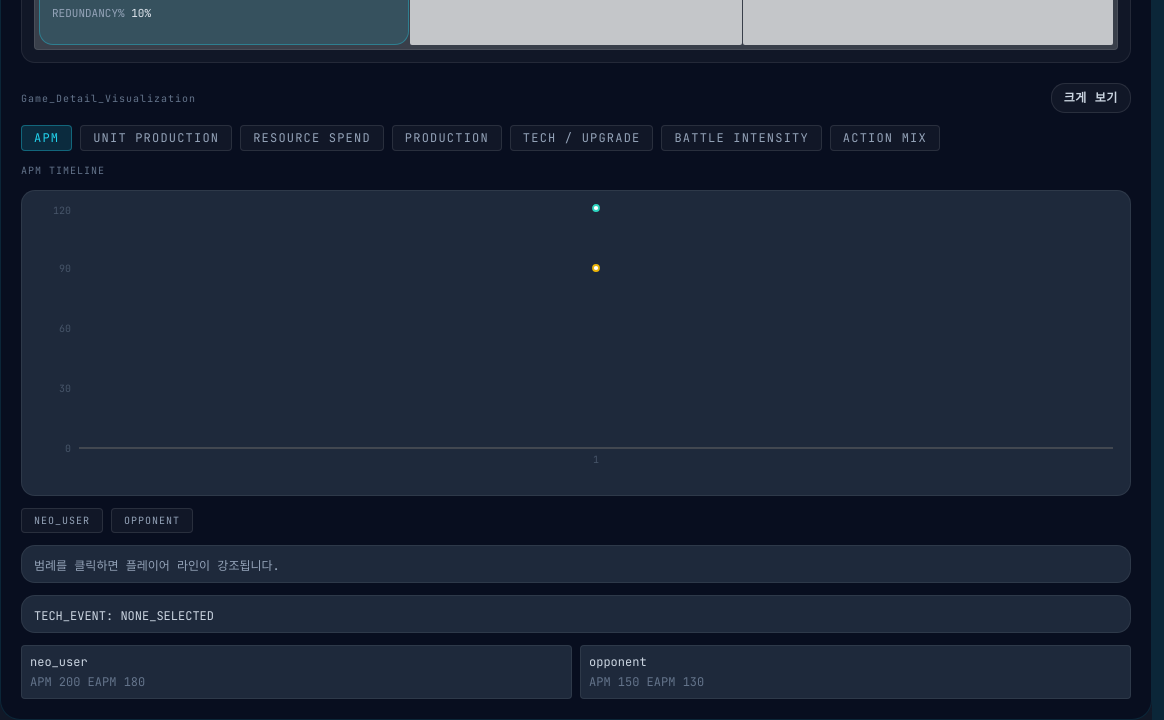
Test: vault page › toggles APM highlighted player from the legend and updates tech focus and tech marker info
(page scrolled)
Expected: the text "범례를 클릭하면 플레이어 라인이 강조됩니다." is shown, [34,558,280,574]
Expected: the text with test id "vault-tech-tree-focus" reads "TECH_EVENT: NONE_SELECTED", [34,608,214,624]
Click the button "neo_user": (62, 520) [21,508,103,533]
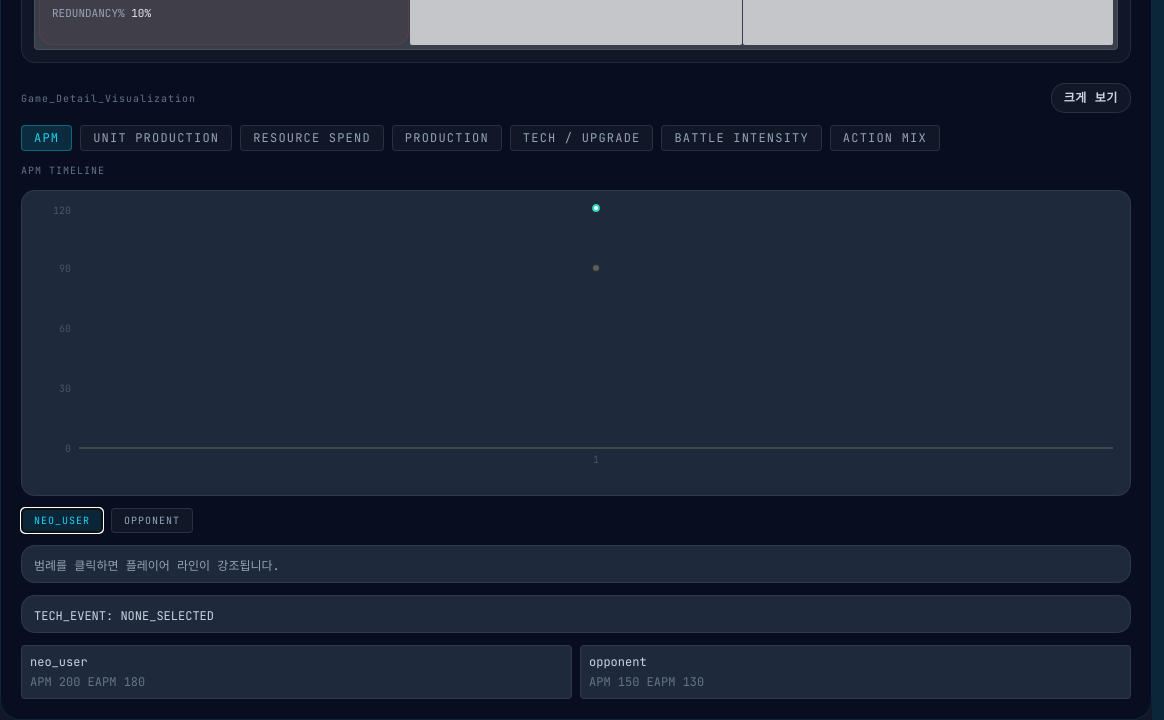
Now the button "neo_user" is pressed, box [21,508,103,533]
Click the button "Tech / Upgrade": (582, 138) [510,125,653,151]
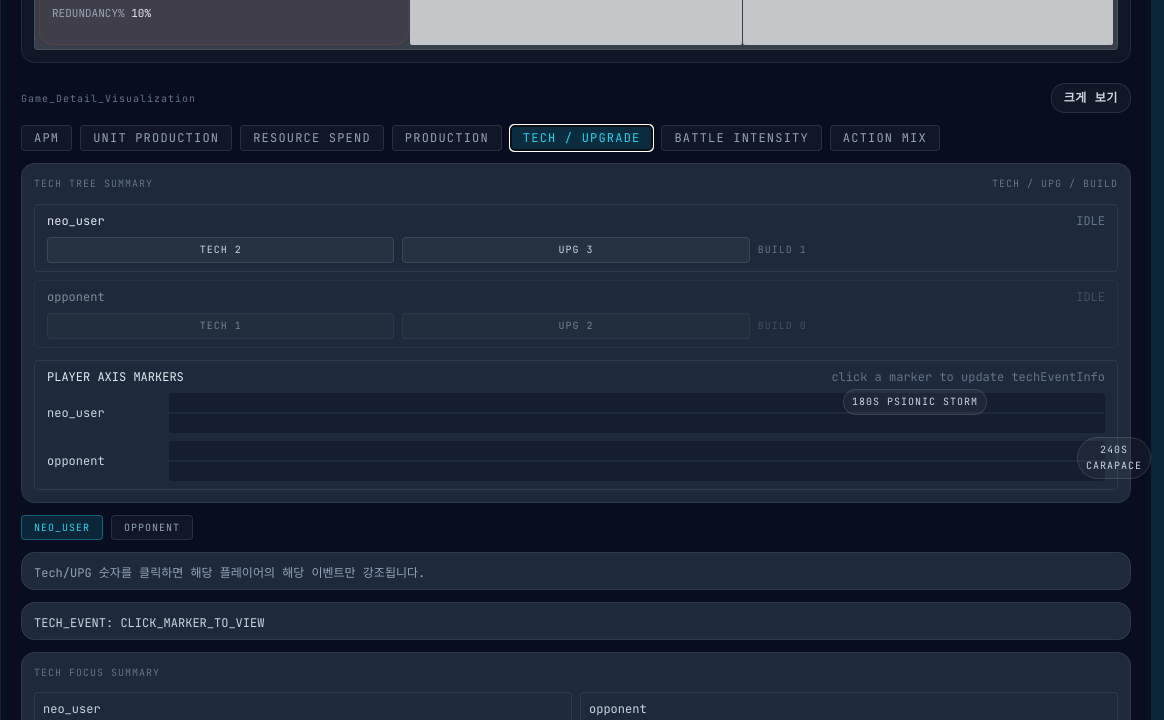
Click the button with aria-label "neo_user TECH 2": (221, 250) [47,237,394,263]
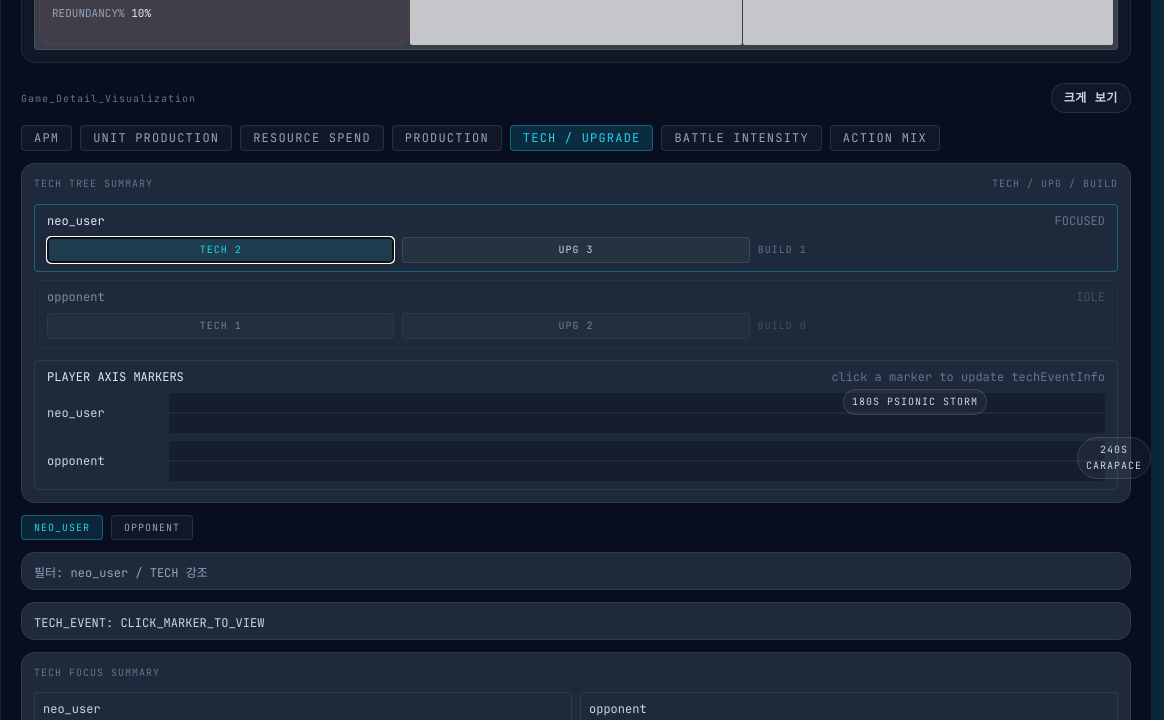
Now the text with test id "vault-tech-tree-focus" reads "TECH_EVENT: CLICK_MARKER_TO_VIEW", box [34,615,264,631]
Now the text "필터: neo_user / TECH 강조" is shown, box [34,565,208,581]
Click the button with aria-label "neo_user Psionic Storm 180s": (915, 402) [843,389,987,415]
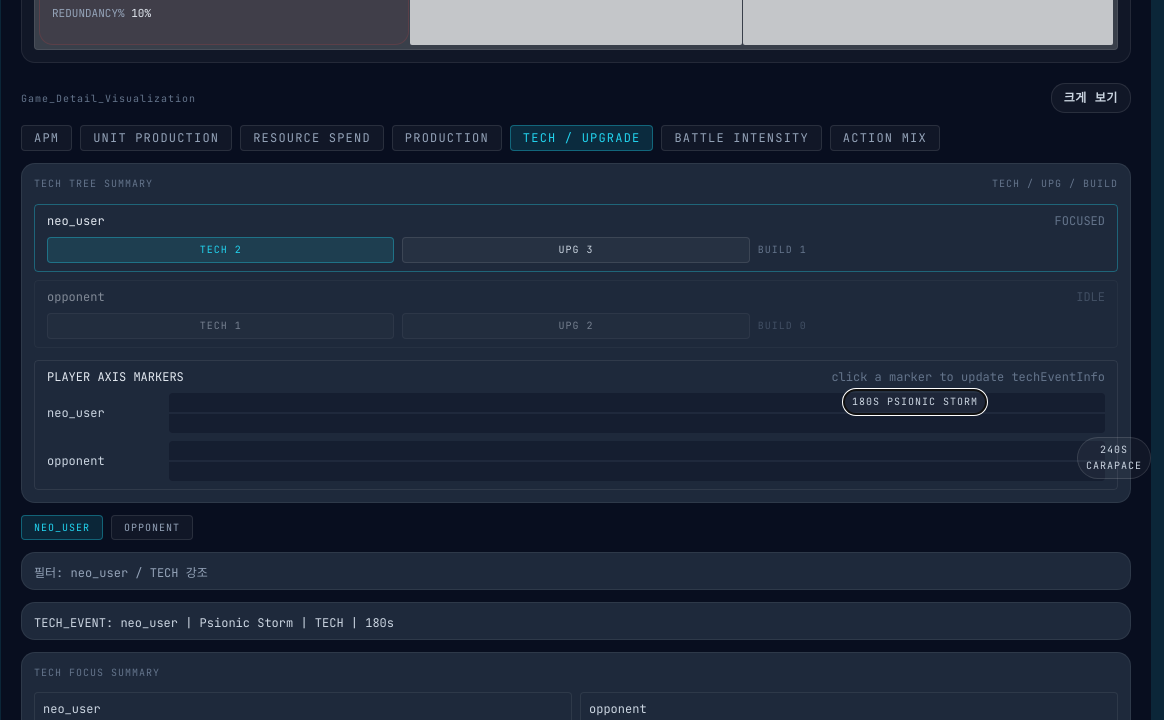
Now the text with test id "vault-tech-tree-focus" reads "TECH_EVENT: neo_user | Psionic Storm | TECH | 180s", box [34,615,394,631]
